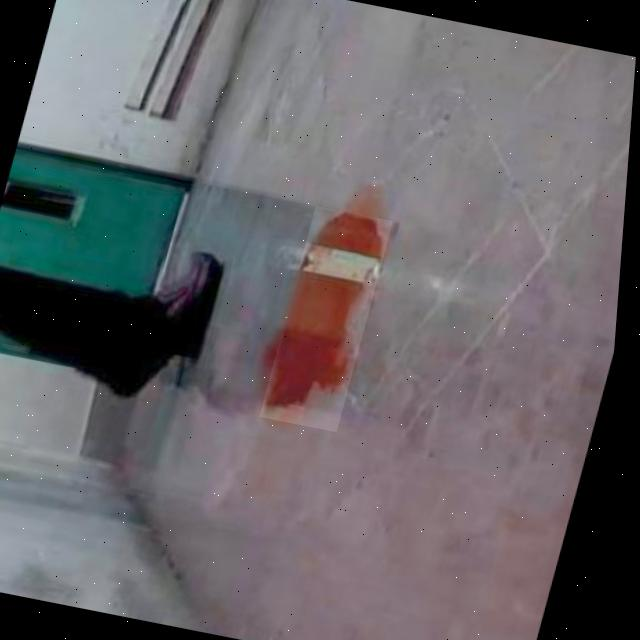spillage: (273, 212, 388, 421)
